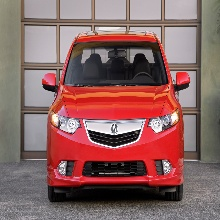no damage: (41, 31, 191, 203)
